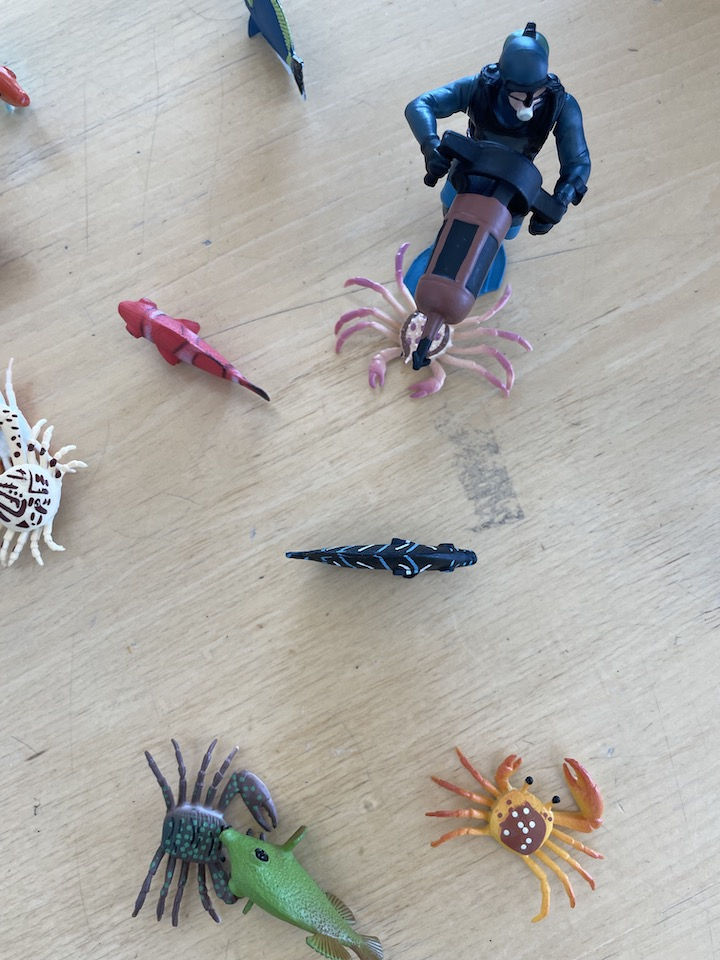crab: (425, 742, 608, 923), (331, 239, 536, 400), (130, 737, 279, 927), (1, 405, 89, 570)
diver: (403, 14, 593, 374)
fish: (216, 824, 391, 960), (114, 296, 274, 404), (283, 536, 483, 582), (235, 1, 311, 104), (1, 56, 34, 119)
